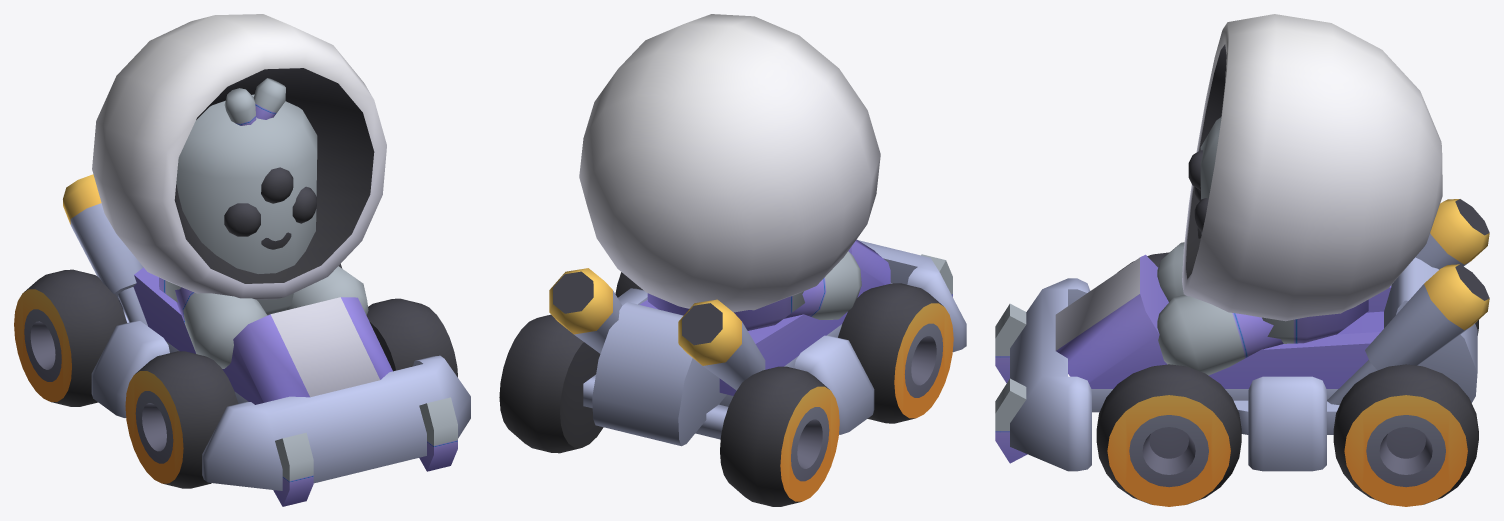
File: cc0-kart-oobi-lod0.glb
The picture shows the model from 3 angles, left to right: view 1: azimuth 30°, elevation 25°; view 2: azimuth 150°, elevation 25°; view 3: azimuth 270°, elevation 25°; orthographic projection. The views are drawn at different scales.
Parts seen in each view (by area): view 1: part_0; view 2: part_0; view 3: part_0.
Boxes of the visible parts, x1,y1,x2,y2 form: part_0: [14, 14, 470, 506]; part_0: [499, 14, 966, 506]; part_0: [995, 14, 1489, 506].
Bounding box in the file's own units: 0.9743 × 1.33 × 1.43.
Materials: 1 (1 with a texture image).
